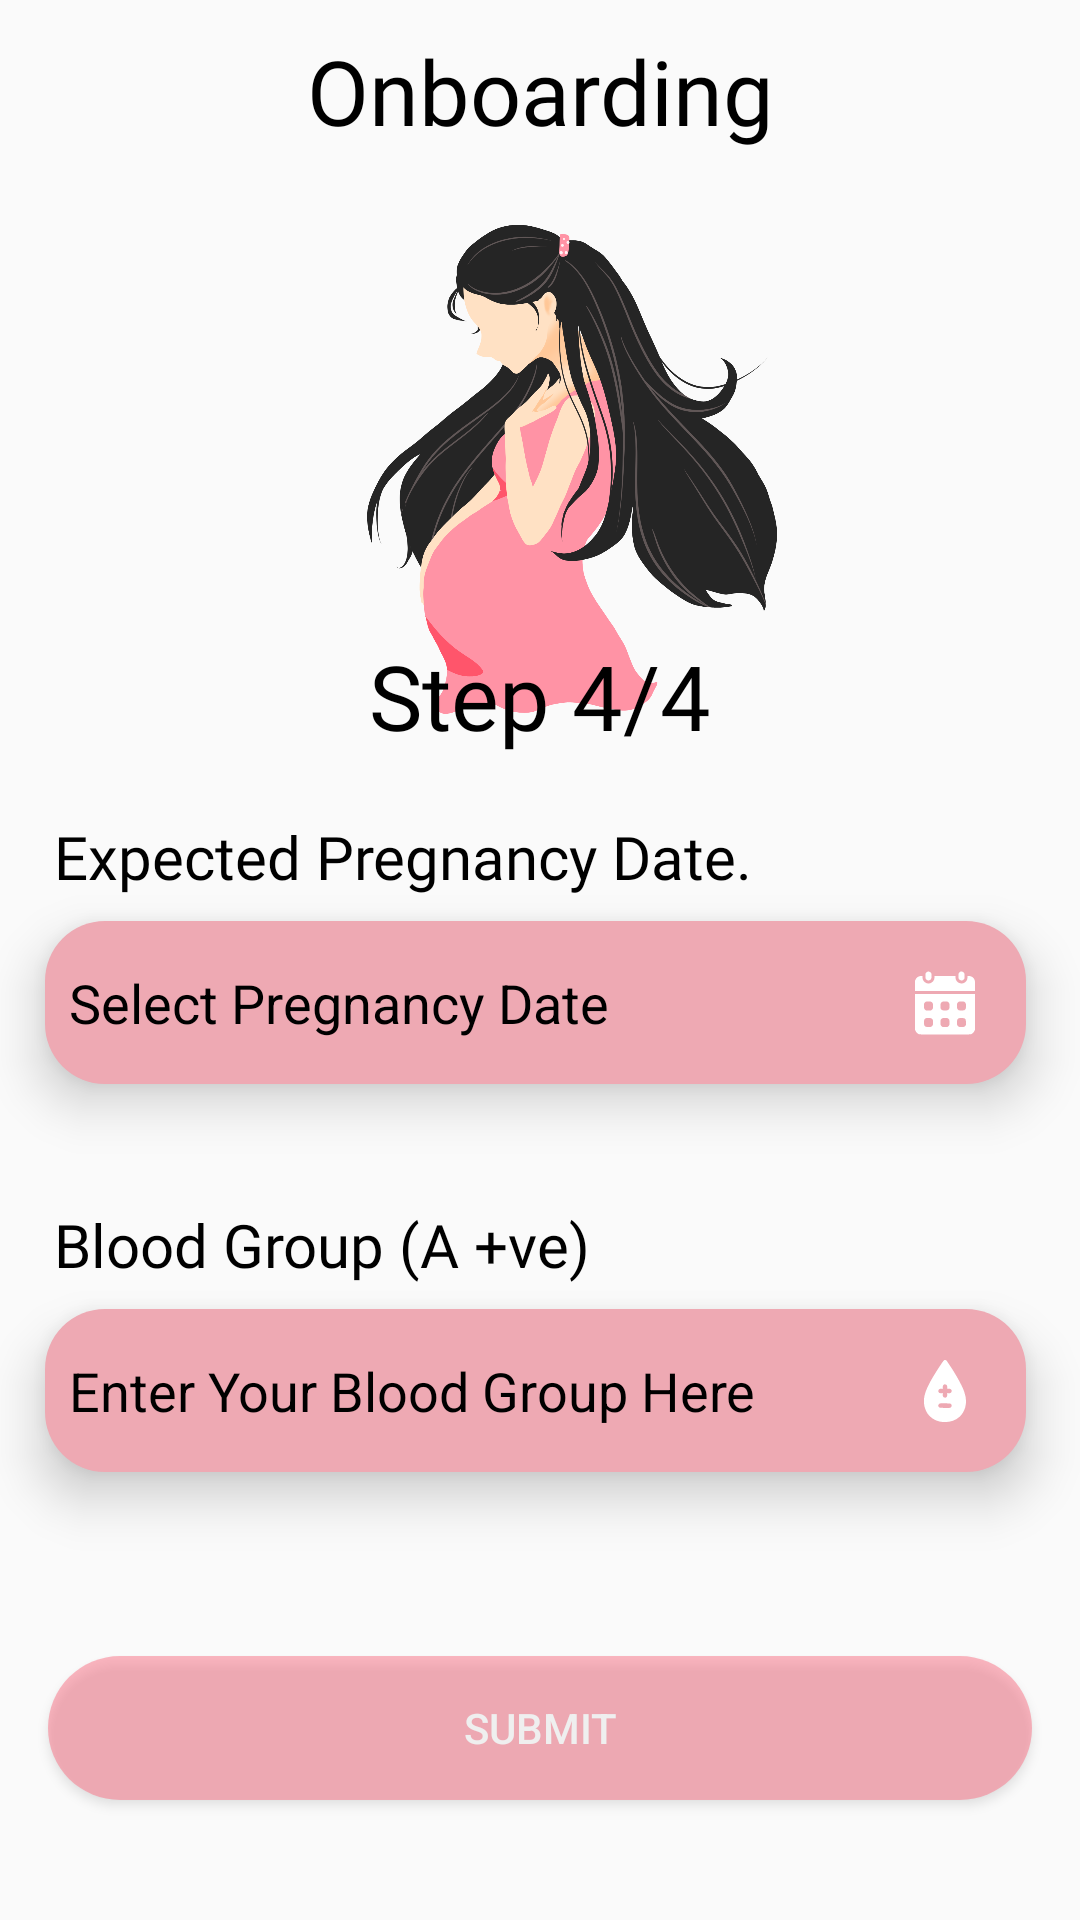

Icon bounding boxes for this 1080*1920 phone screenshot, format (x1, y1, x2, y2):
bloodtype: (924, 1360, 966, 1422)
calendar: (915, 971, 975, 1035)
